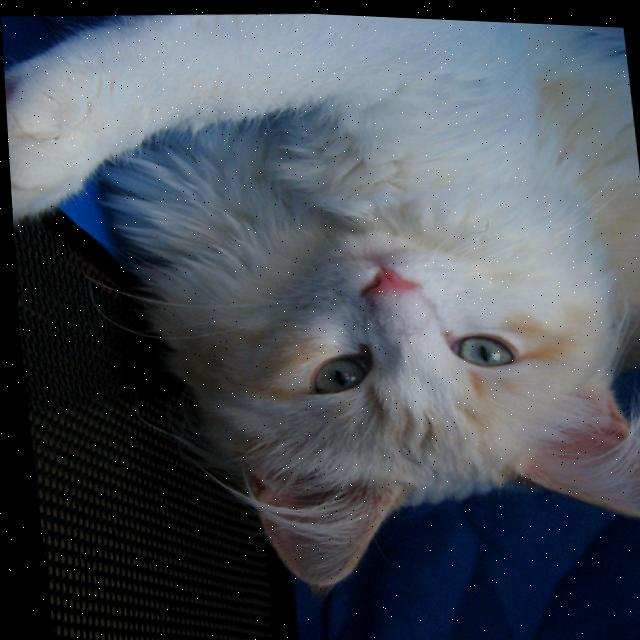Ragdoll: (0, 0, 640, 619)
